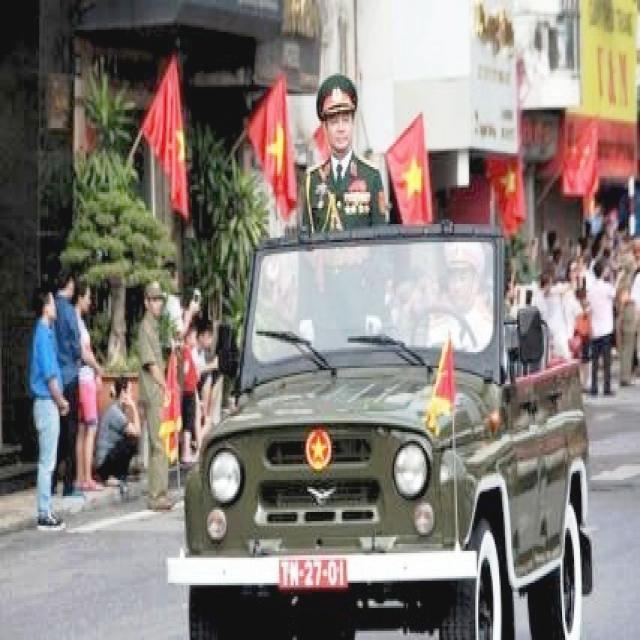license_plate: (280, 555, 350, 588)
